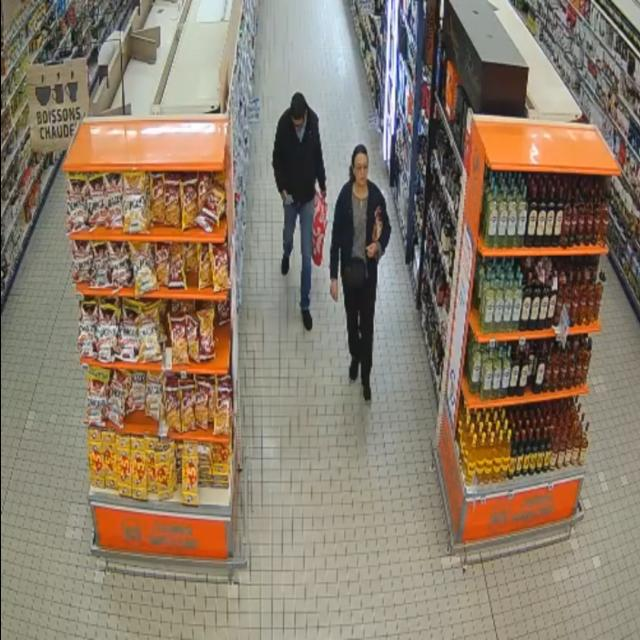article: (371, 206, 383, 242)
bags: (312, 192, 327, 266), (343, 258, 366, 289)
hands: (366, 243, 380, 258), (330, 280, 338, 301), (281, 190, 288, 202), (321, 188, 326, 199)
person: (330, 145, 391, 401), (273, 93, 326, 330)
